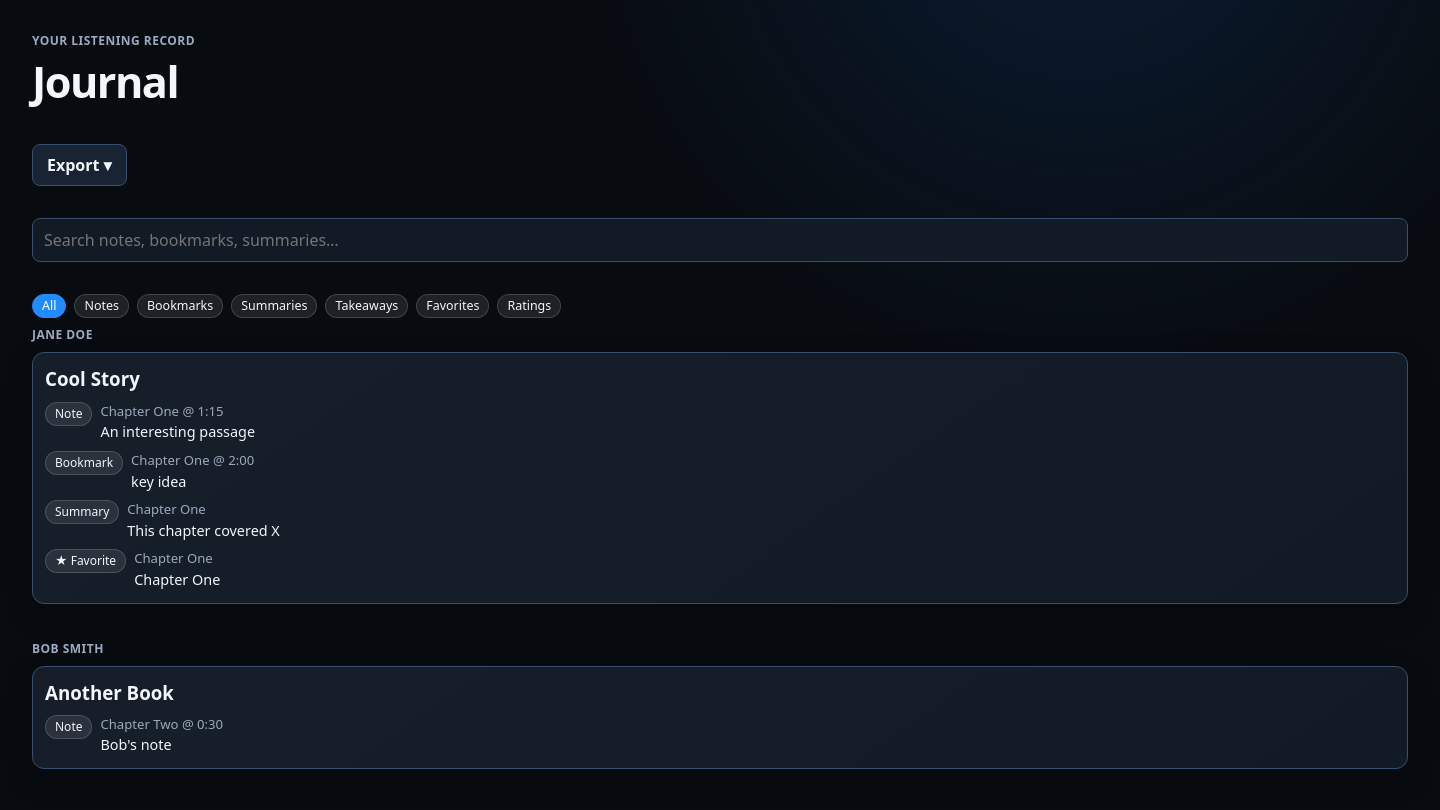
Test: JournalView › Notes filter shows only note entries
The image size is (1440, 810).
Click the tab "Notes" at (102, 306), box [74, 294, 129, 318]
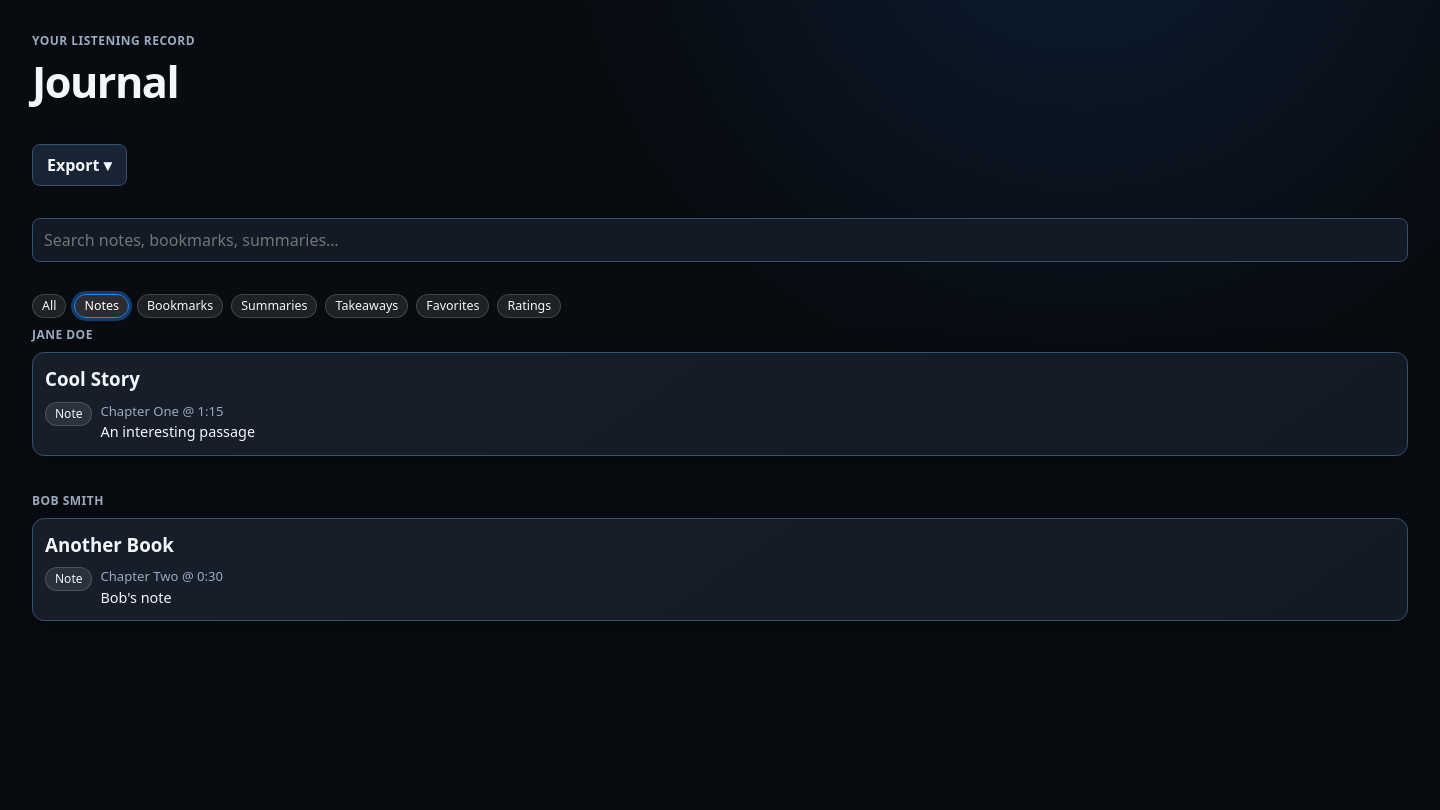
Check: the text "An interesting passage" is shown, box [100, 422, 255, 441]
Check: the text "key idea" is gone
Check: the text "This chapter covered X" is gone
